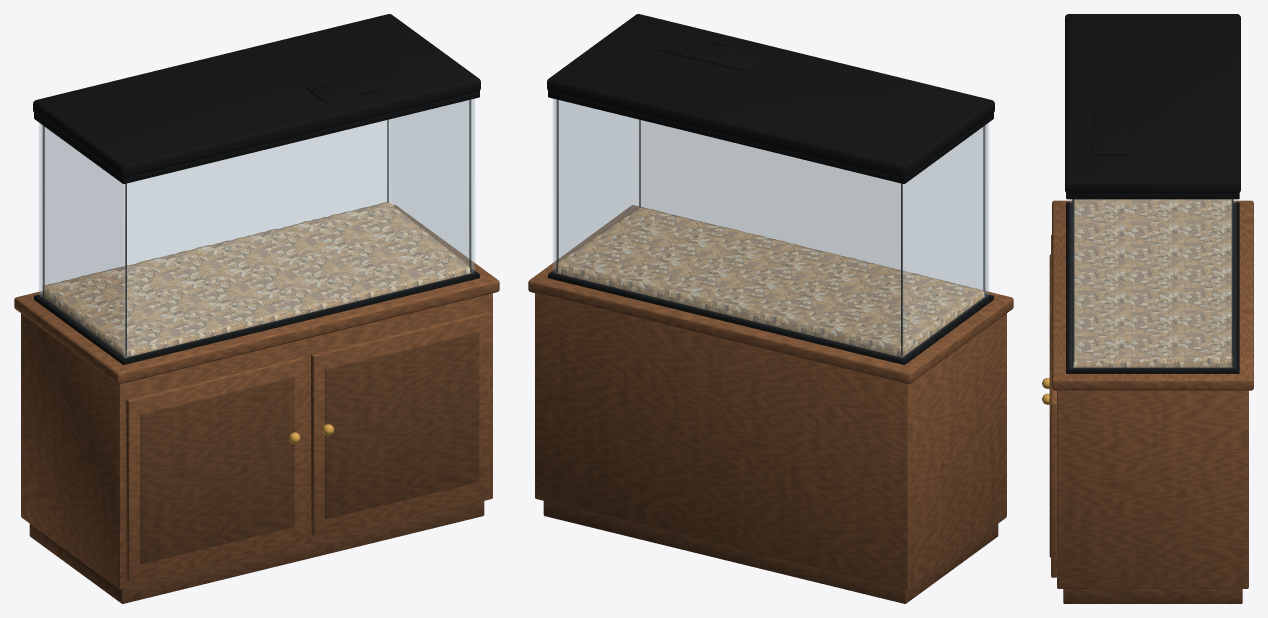
The model's file is tank.glb.
The picture shows the model from 3 angles, left to right: view 1: azimuth 30°, elevation 25°; view 2: azimuth 150°, elevation 25°; view 3: azimuth 270°, elevation 25°; orthographic projection. The views are drawn at different scales.
Parts seen in each view (by area): view 1: Tank; view 2: Tank; view 3: Tank.
Part boxes in pixels (<box>): Tank: <box>14,14,499,603</box>; Tank: <box>528,14,1013,603</box>; Tank: <box>1042,14,1253,603</box>.
Bounding box in the file's own units: 1.33 × 1.46 × 0.661.
8 materials, 3 textured.
